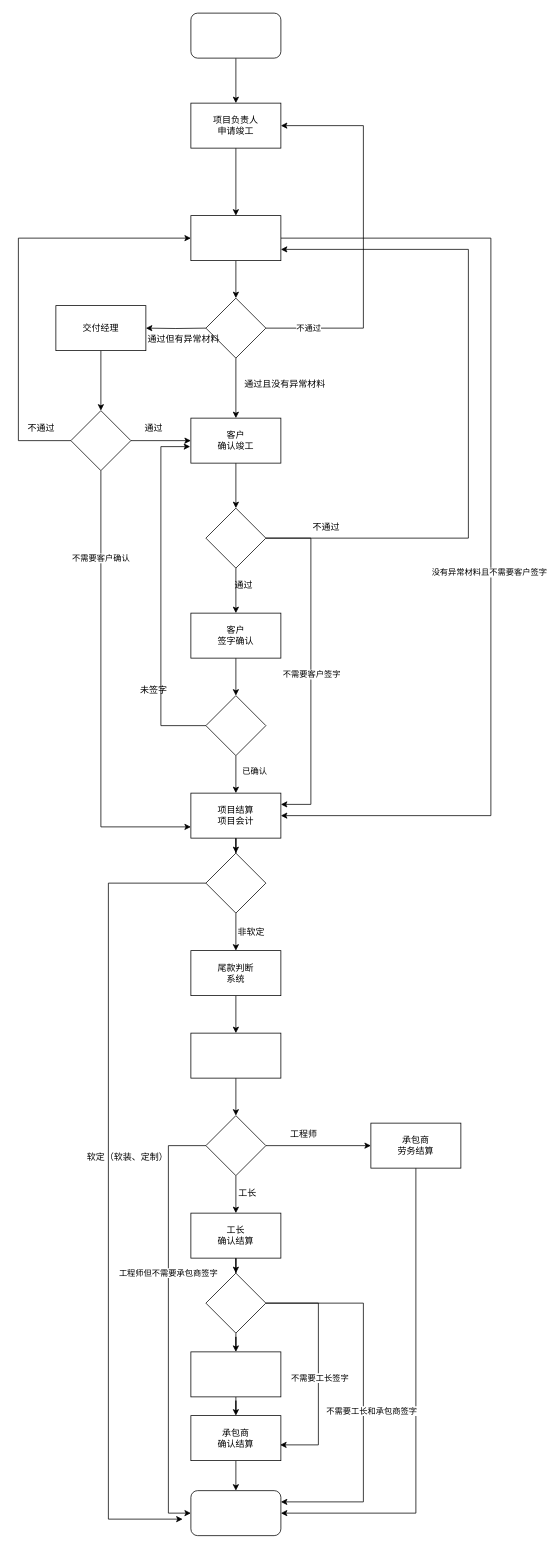
The diagram is 560 pixels wide and 1549 high, and some of its shapes have lost their labels. Each missing label, with the centre of its shape:
"交付总 确认结算" belongs at point (235, 1055).
"工长 确认签字" belongs at point (235, 1374).
"开始" belongs at point (235, 35).
"结束" belongs at point (235, 1513).
"质检员 验收" belongs at point (235, 238).
